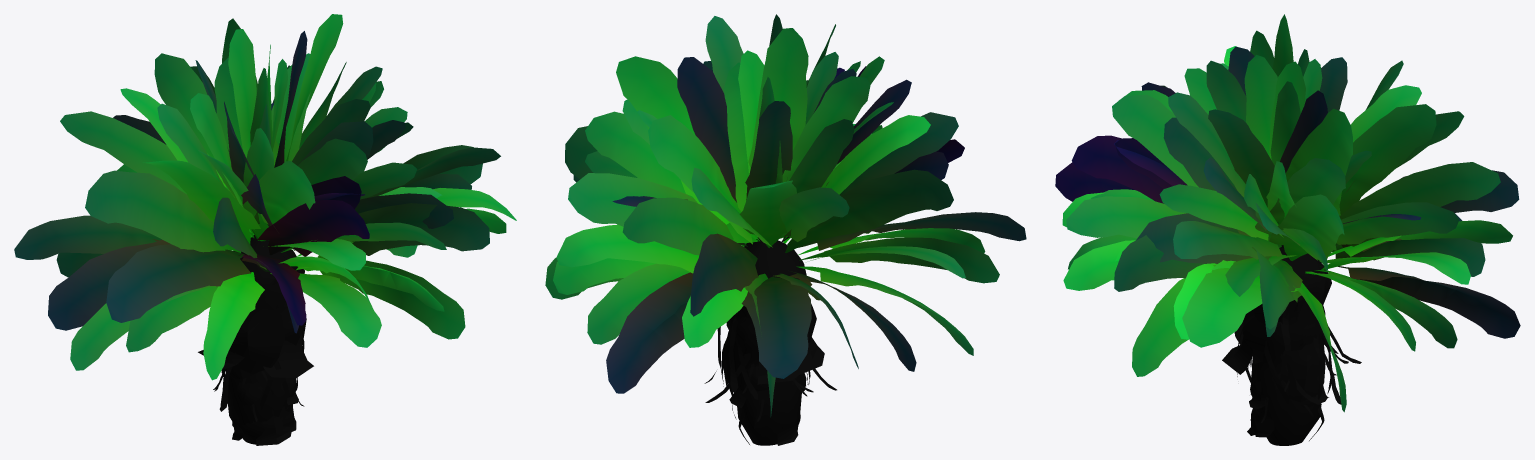
File: Palm_3_Mesh.fbx
3 renders of one model, left to right at view 1: azimuth 30°, elevation 25°; view 2: azimuth 150°, elevation 25°; view 3: azimuth 270°, elevation 25°, orthographic.
Parts seen in each view (by area): view 1: Palm_3_LOD0; view 2: Palm_3_LOD0; view 3: Palm_3_LOD0.
Boxes of the visible parts, x1=… form: Palm_3_LOD0: x1=14, y1=14, x2=516, y2=445; Palm_3_LOD0: x1=545, y1=14, x2=1026, y2=445; Palm_3_LOD0: x1=1055, y1=14, x2=1520, y2=445.
Bounding box in the file's own units: 240 × 227 × 231.
